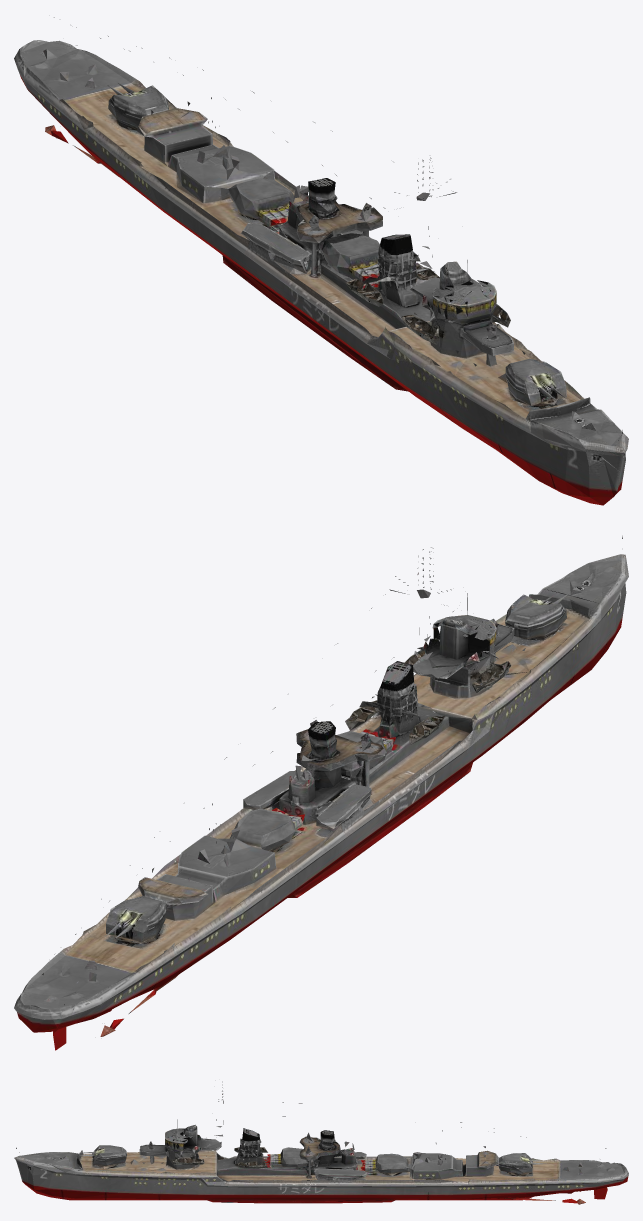
Rendered from realistic-by.76880fe3d732.destroyer.glb.
3 renders of one model, top to bottom at view 1: azimuth 30°, elevation 25°; view 2: azimuth 150°, elevation 25°; view 3: azimuth 270°, elevation 25°, orthographic. The views are drawn at different scales.
Parts seen in each view (by area): view 1: destroyer; view 2: destroyer; view 3: destroyer.
Boxes of the visible parts, <box> form: destroyer: <box>14,17,628,505</box>; destroyer: <box>14,535,628,1050</box>; destroyer: <box>14,1081,628,1204</box>.
Bounding box in the file's own units: 11.08 × 23.8 × 111.
Materials: 1 (1 with a texture image).
